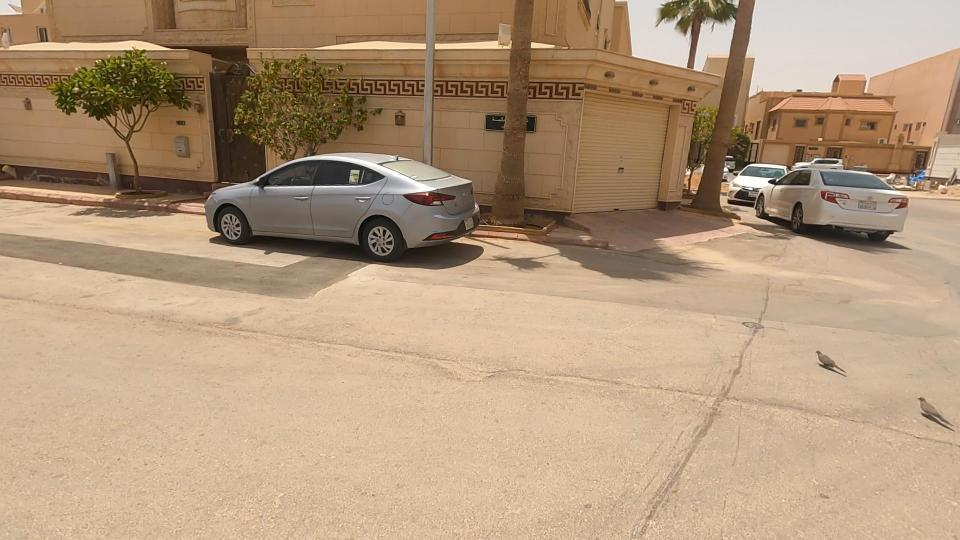GARBAGE: (878, 159, 952, 201)
